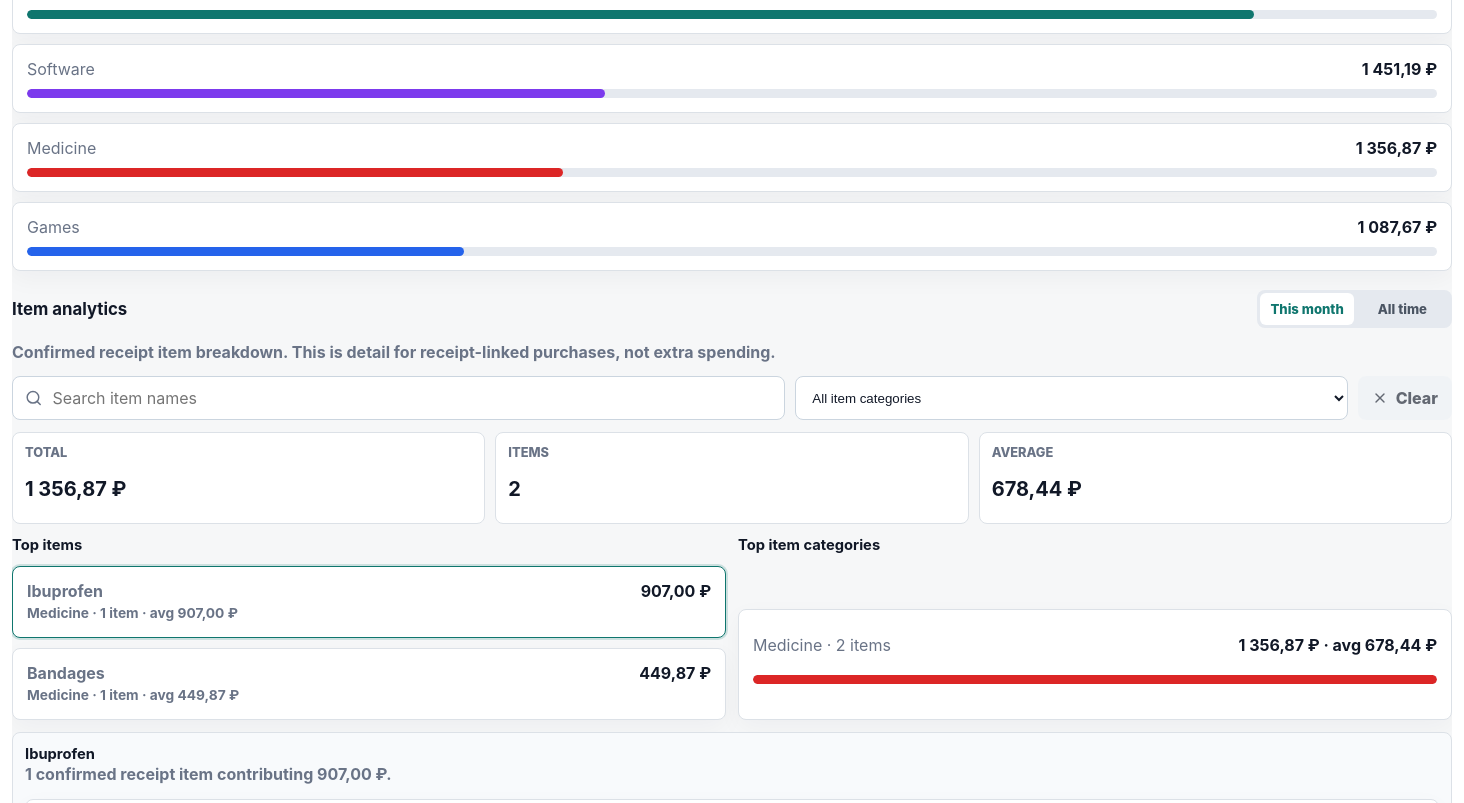
Test case: DashboardPage › filters item analytics by category and shows a category empty state
The width and height of the screenshot is (1464, 803).
(page scrolled)
Select "Groceries" in the dropdown named "Item category" at (1072, 398), box [795, 376, 1348, 420]
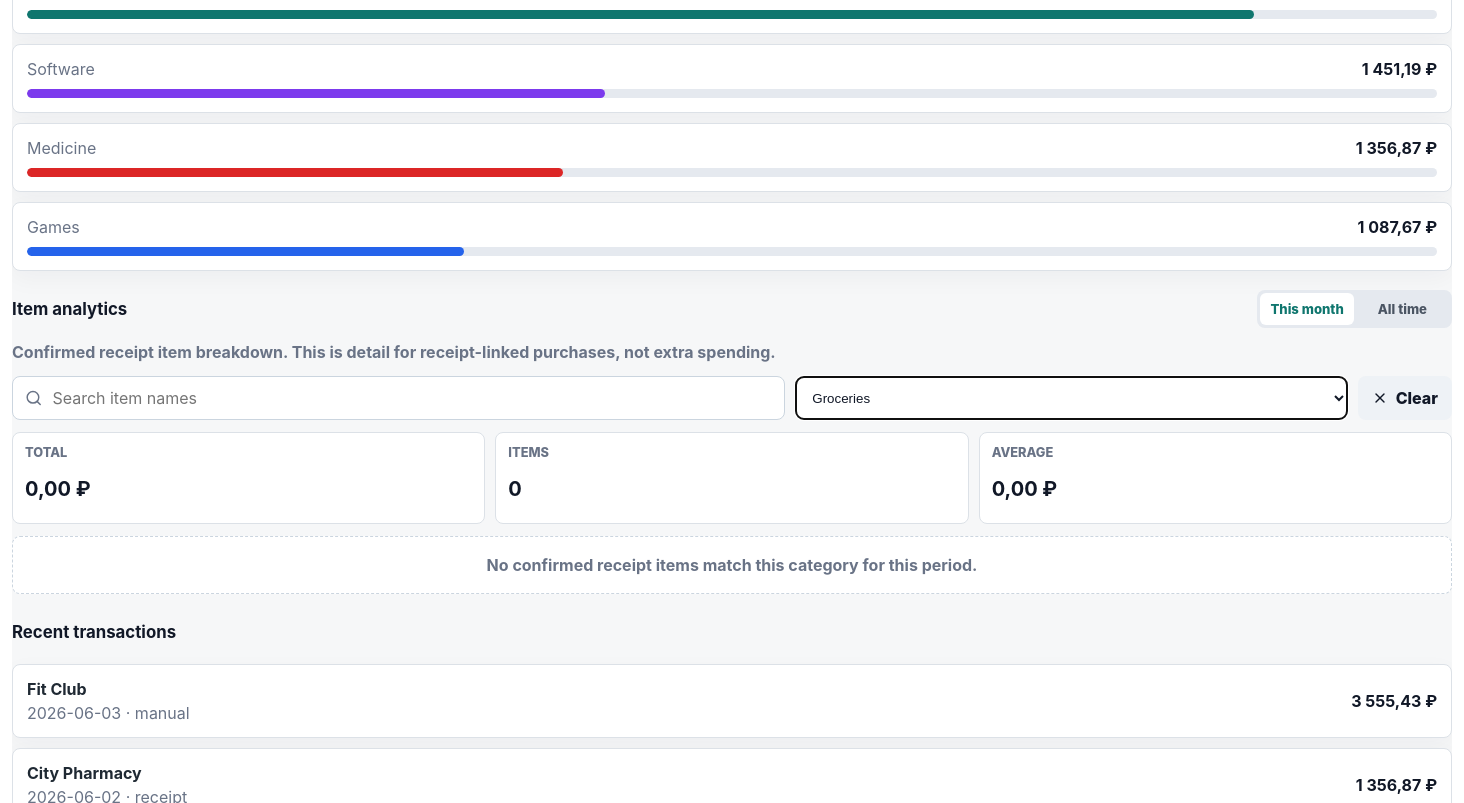
expect the text "No confirmed receipt items match this category for this period." is shown: met, box [12, 536, 1452, 594]
Select "Medicine" in the dropdown named "Item category" at (1072, 398), box [795, 376, 1348, 420]
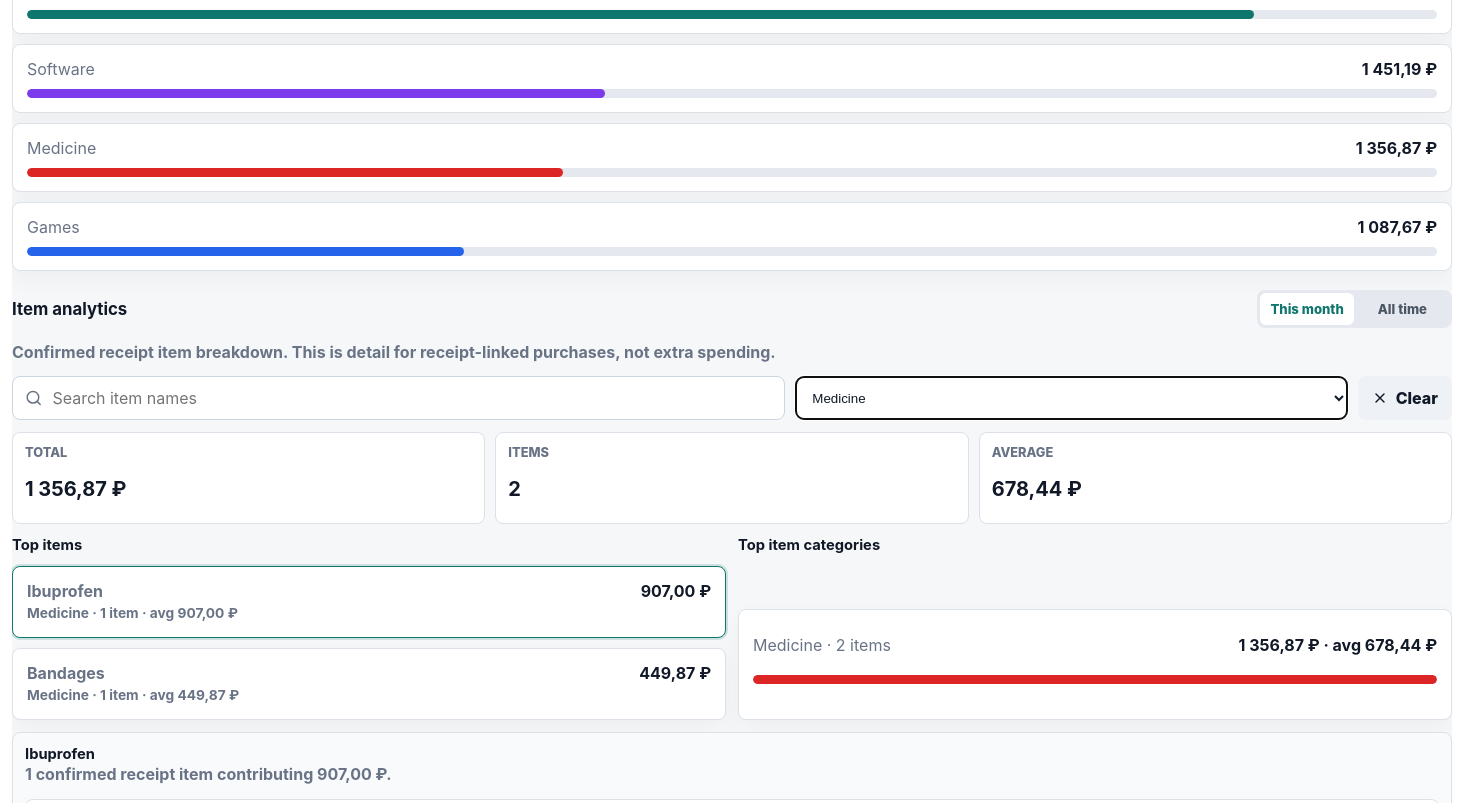
expect the text "Ibuprofen" is shown: met, box [27, 581, 103, 601]
expect the text "Bandages" is shown: met, box [27, 663, 105, 683]
